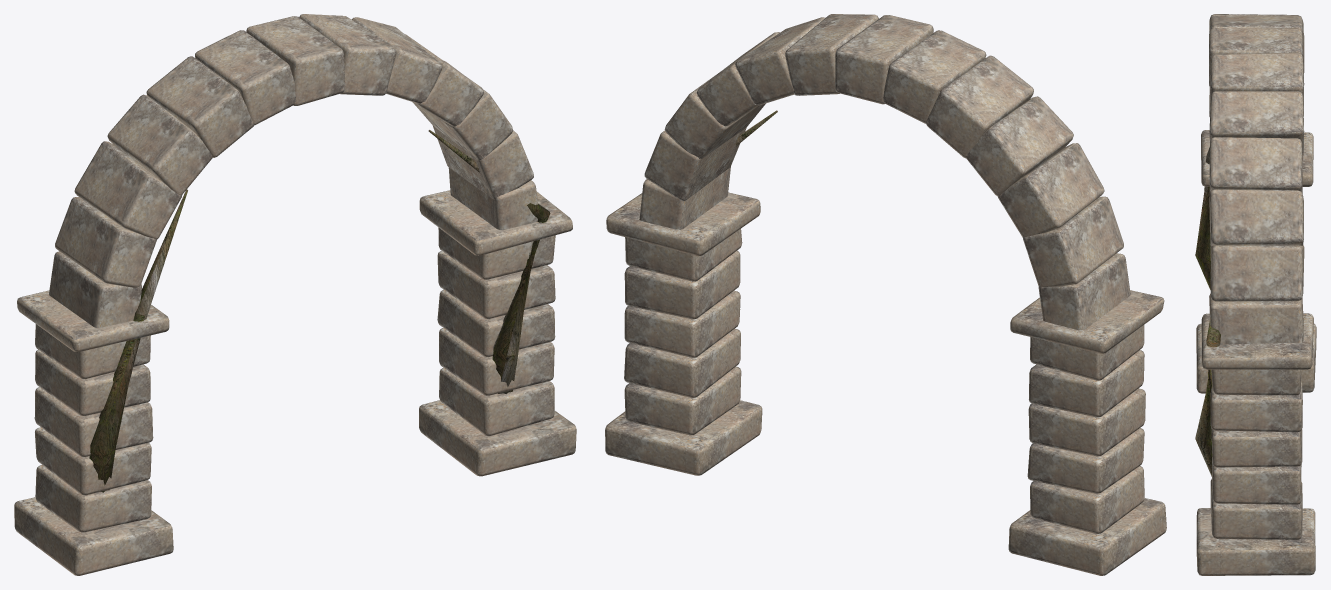
Rendered from sanctum_arch.glb.
3 renders of one model, left to right at view 1: azimuth 30°, elevation 25°; view 2: azimuth 150°, elevation 25°; view 3: azimuth 270°, elevation 25°, orthographic. The views are drawn at different scales.
Visible parts, largest first — view 1: Worn masonry; view 2: Worn masonry; view 3: Worn masonry.
Boxes of the visible parts, x1,y1,x2,y2 form: Worn masonry: [14, 14, 576, 575]; Worn masonry: [605, 14, 1166, 575]; Worn masonry: [1195, 14, 1316, 575].
Bounding box in the file's own units: 8.73 × 7.68 × 1.96.
2 materials, 2 textured.
